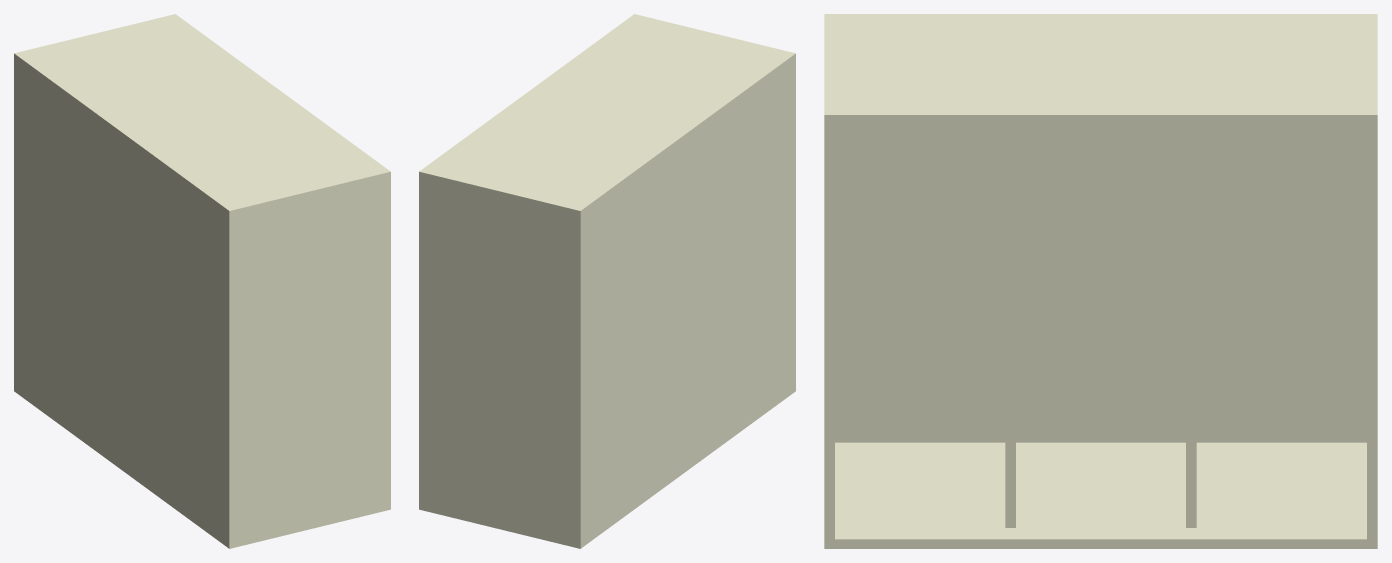
The model's file is nil_link_mesh.dae.
3 renders of one model, left to right at view 1: azimuth 30°, elevation 25°; view 2: azimuth 150°, elevation 25°; view 3: azimuth 270°, elevation 25°, orthographic. The views are drawn at different scales.
Visible parts, largest first — view 1: nil_link (×5); view 2: nil_link (×5); view 3: nil_link (×7).
Boxes of the visible parts, x1=… form: nil_link (×5): x1=14, y1=14, x2=390, y2=548; nil_link (×5): x1=419, y1=14, x2=795, y2=548; nil_link (×7): x1=824, y1=14, x2=1377, y2=548.
Bounding box in the file's own units: 0.45 × 0.9 × 1.04.
